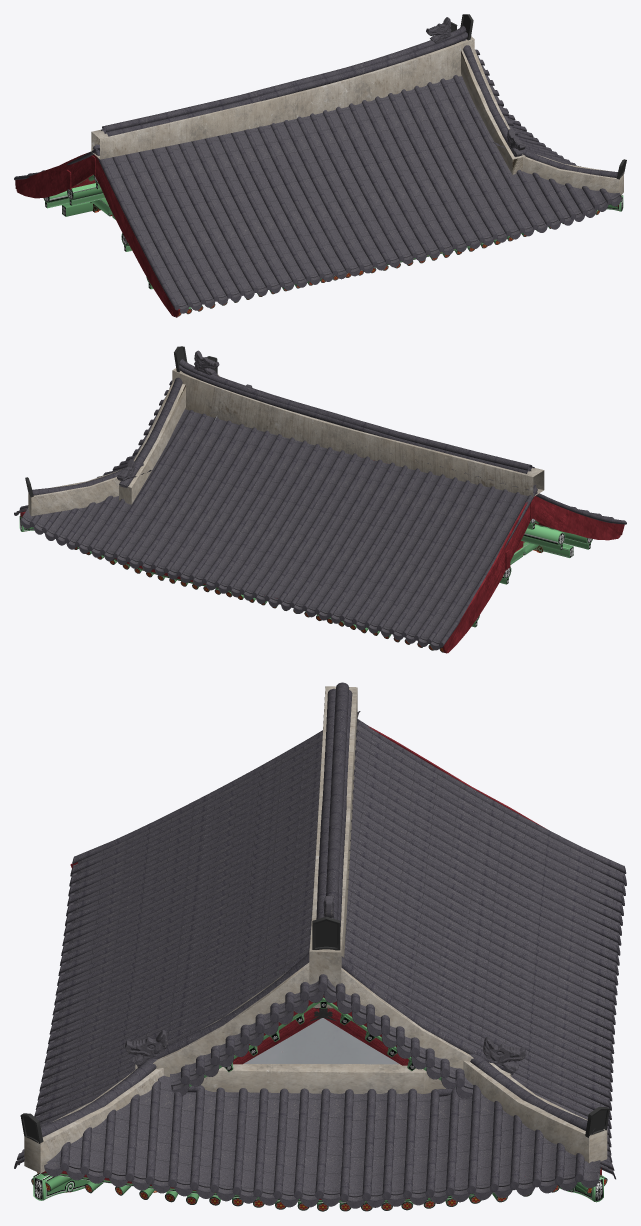
File: SM_Uhagwan_SM_Uhagwan_Right.fbx
3 views of the same model, one above another, from view 1: azimuth 30°, elevation 25°; view 2: azimuth 150°, elevation 25°; view 3: azimuth 270°, elevation 25° (orthographic). The views are drawn at different scales.
Visible parts, largest first — view 1: SM_Uhagwan_SM_Uhagwan_Right; view 2: SM_Uhagwan_SM_Uhagwan_Right; view 3: SM_Uhagwan_SM_Uhagwan_Right.
Part boxes in pixels (box(x1,y1,x2,y2)): SM_Uhagwan_SM_Uhagwan_Right: box(14, 14, 626, 317); SM_Uhagwan_SM_Uhagwan_Right: box(14, 346, 626, 653); SM_Uhagwan_SM_Uhagwan_Right: box(14, 682, 626, 1211).
Size of the model in its own units: 1305 by 955 by 450.
Materials: 11 (11 with a texture image).
